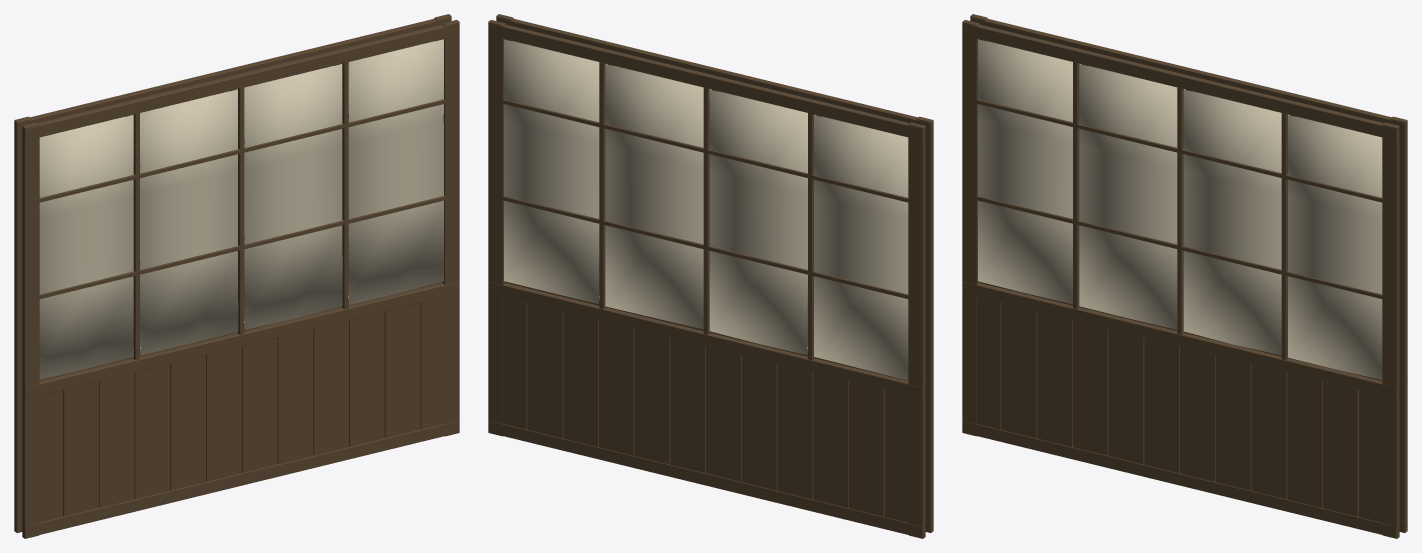
File: door-leaf-lod1.fbx
3 views of the same model, side by side, from view 1: azimuth 30°, elevation 25°; view 2: azimuth 150°, elevation 25°; view 3: azimuth 330°, elevation 25° (orthographic).
Visible parts, largest first — view 1: Framed door paper.006, Framed door paper.005, Framed door paper.007, Framed door paper.004, Profiled door stile.002, Profiled door rail.005, Profiled door rail.004, Profiled door stile.003, Profiled door rail.003, Raised lower door board.019, Raised lower door board.015, Raised lower door board.022 (+23 smaller); view 2: Framed door paper.002, Framed door paper.001, Framed door paper, Framed door paper.003, Profiled door stile, Profiled door rail.002, Profiled door rail.001, Profiled door stile.001, Profiled door rail, Raised lower door board.007, Raised lower door board.003, Raised lower door board.010 (+20 smaller); view 3: Framed door paper.006, Framed door paper.005, Framed door paper.007, Framed door paper.004, Profiled door stile.003, Profiled door rail.005, Profiled door rail.004, Profiled door stile.002, Profiled door rail.003, Raised lower door board.016, Raised lower door board.013, Raised lower door board.020 (+23 smaller).
Boxes of the visible parts, <box> form: Framed door paper.006: <box>244,64,342,329</box>; Framed door paper.005: <box>140,89,238,355</box>; Framed door paper.007: <box>349,39,443,304</box>; Framed door paper.004: <box>39,115,133,379</box>; Profiled door stile.002: <box>22,122,39,538</box>; Profiled door rail.005: <box>25,23,459,140</box>; Profiled door rail.004: <box>25,282,459,398</box>; Profiled door stile.003: <box>442,20,459,436</box>; Profiled door rail.003: <box>25,421,459,537</box>; Raised lower door board.019: <box>277,329,313,464</box>; Raised lower door board.015: <box>134,364,170,499</box>; Raised lower door board.022: <box>384,303,420,438</box>; Framed door paper.002: <box>709,89,807,355</box>; Framed door paper.001: <box>605,64,703,329</box>; Framed door paper: <box>504,39,599,303</box>; Framed door paper.003: <box>814,115,908,380</box>; Profiled door stile: <box>908,122,925,538</box>; Profiled door rail.002: <box>488,23,922,140</box>; Profiled door rail.001: <box>488,282,922,398</box>; Profiled door stile.001: <box>488,20,505,436</box>; Profiled door rail: <box>488,421,922,537</box>; Raised lower door board.007: <box>634,329,670,464</box>; Raised lower door board.003: <box>777,364,813,499</box>; Raised lower door board.010: <box>527,303,563,438</box>; Framed door paper.006: <box>1183,89,1281,355</box>; Framed door paper.005: <box>1079,64,1177,329</box>; Framed door paper.007: <box>1288,115,1382,379</box>; Framed door paper.004: <box>978,39,1072,304</box>; Profiled door stile.003: <box>1382,122,1399,538</box>; Profiled door rail.005: <box>962,23,1396,140</box>; Profiled door rail.004: <box>962,282,1396,398</box>; Profiled door stile.002: <box>962,20,979,436</box>; Profiled door rail.003: <box>962,421,1396,537</box>; Raised lower door board.016: <box>1108,329,1144,464</box>; Raised lower door board.013: <box>1001,303,1037,438</box>; Raised lower door board.020: <box>1251,364,1287,499</box>.
Bounding box in the file's own units: 259 × 234 × 11.4.
